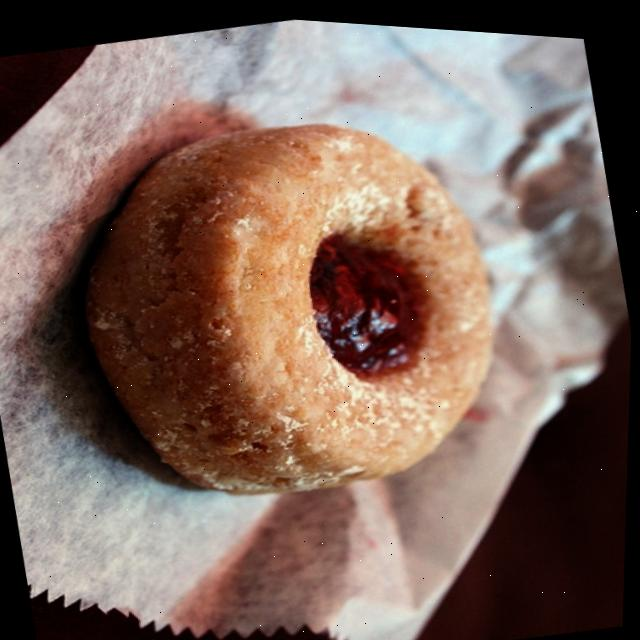炸货点心: (37, 62, 550, 545)
